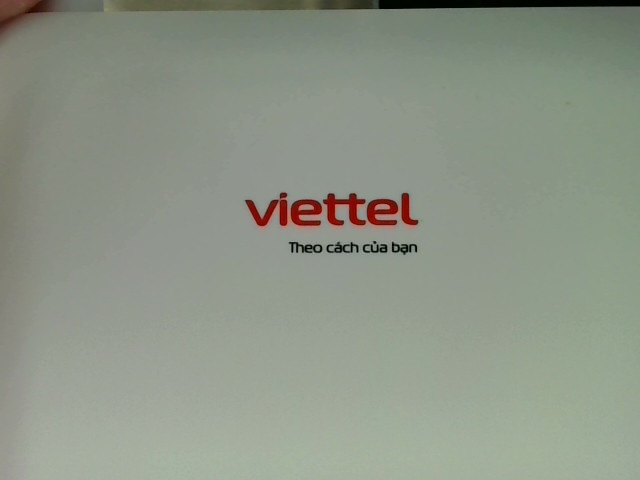AY_Viettel: (231, 186, 431, 261)
